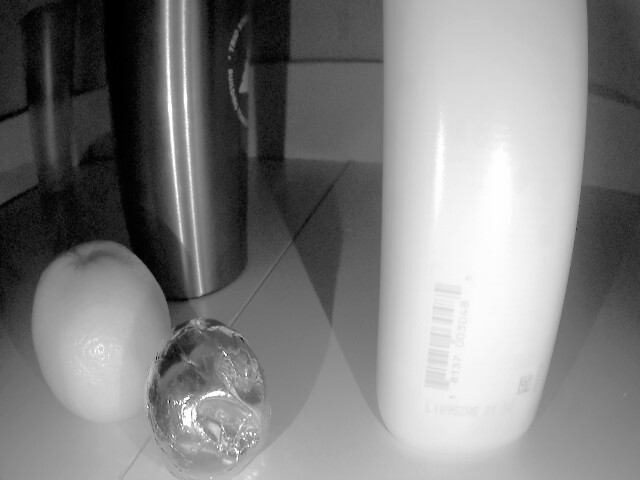black: (144, 321, 280, 477)
